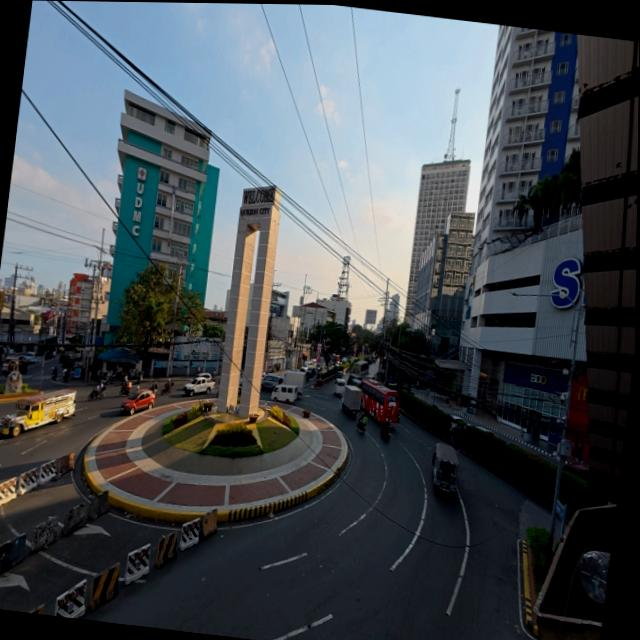Jeepneys: (0, 389, 76, 437), (432, 443, 458, 494)
bus: (361, 379, 399, 423), (351, 361, 369, 378)
car: (121, 390, 154, 415), (450, 415, 466, 432), (3, 357, 18, 373), (476, 425, 496, 436), (23, 352, 42, 363), (44, 350, 55, 360), (197, 373, 212, 380), (309, 367, 317, 377), (336, 371, 343, 378), (301, 366, 309, 372)
motorcycle: (130, 370, 143, 384), (88, 389, 103, 401), (381, 427, 391, 441), (120, 384, 131, 395), (50, 366, 58, 381), (357, 421, 366, 433), (161, 384, 171, 394)
trucks: (341, 385, 362, 415), (282, 370, 305, 395)
vans: (271, 384, 297, 402), (261, 374, 283, 390), (334, 379, 345, 395)
